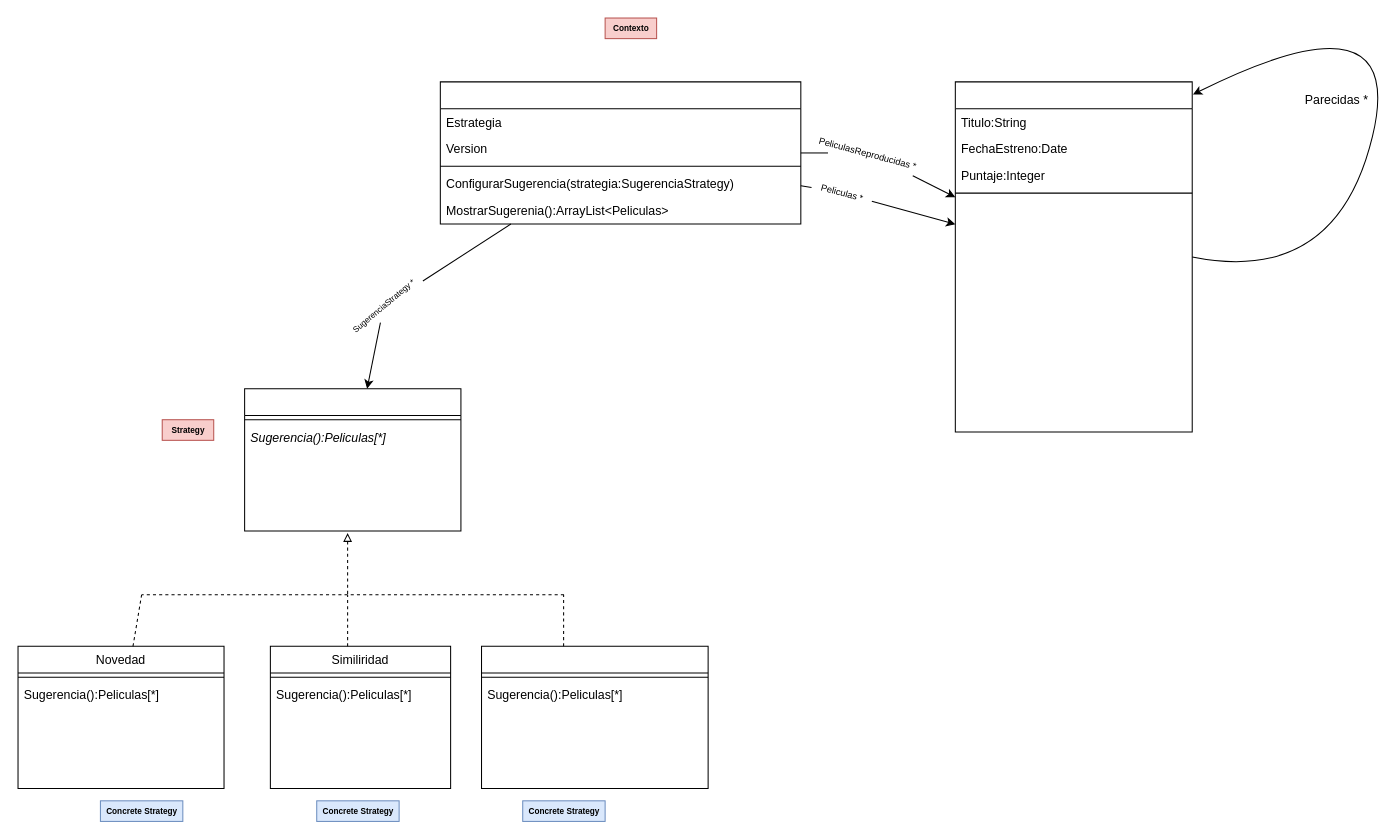
Some shapes in this 1397 by 839 pixel diagram are drawn without their labels. Each missing label, with the box of its shape:
Decodificador: (439, 81, 801, 224)
Peliculas: (954, 81, 1192, 432)
Puntaje: (480, 645, 708, 788)
SugerenciaStrategy: (244, 388, 461, 531)
